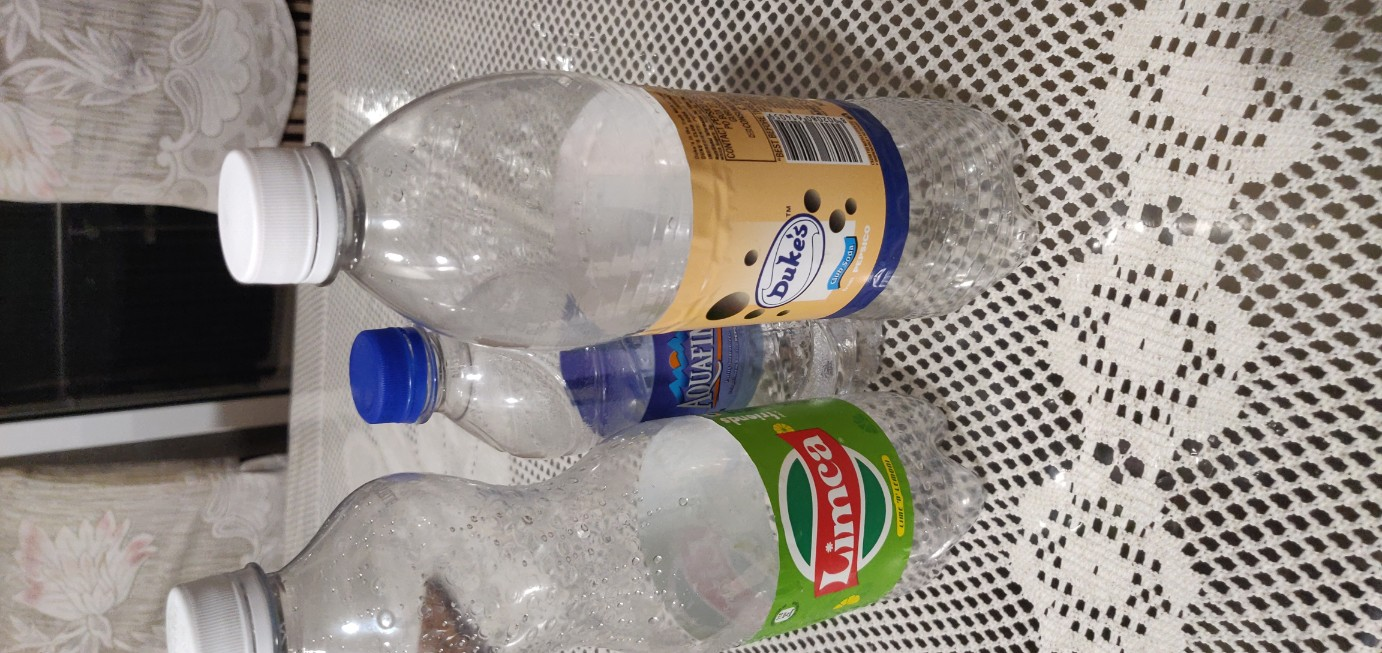Electronics: (180, 48, 1074, 370), (116, 385, 1016, 653), (299, 229, 954, 472)
